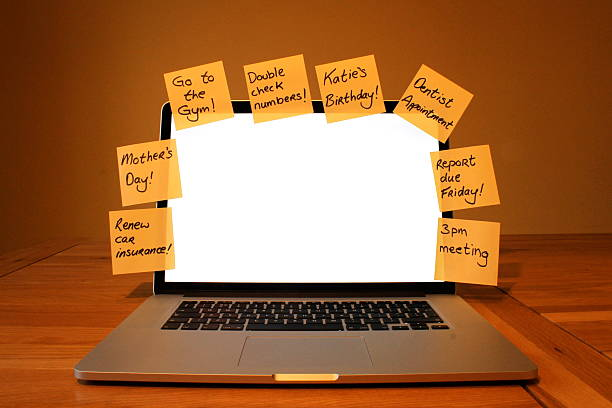Note: (392, 66, 474, 143), (429, 145, 502, 214), (243, 53, 314, 122), (315, 54, 386, 123), (163, 61, 233, 129), (433, 218, 501, 285), (108, 208, 175, 274), (117, 138, 181, 205)
